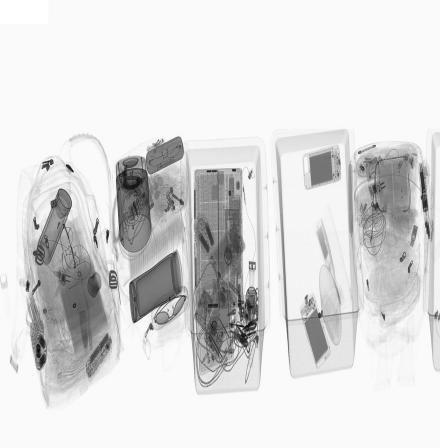Powerbank: (203, 277, 240, 354), (298, 290, 333, 369), (208, 220, 247, 284)
